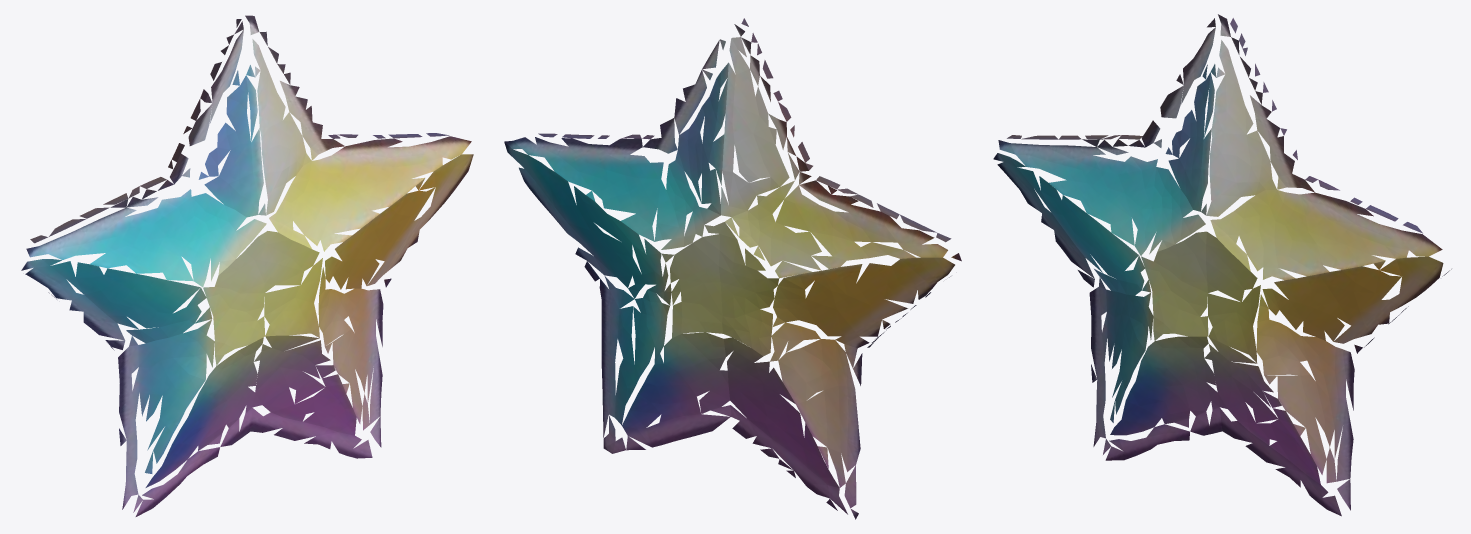
The model's file is starry.glb.
The picture shows the model from 3 angles, left to right: view 1: azimuth 30°, elevation 25°; view 2: azimuth 150°, elevation 25°; view 3: azimuth 330°, elevation 25°; orthographic projection.
Visible parts, largest first — view 1: world.001; view 2: world.001; view 3: world.001.
Part boxes in pixels (<box>): world.001: <box>21,15,473,516</box>; world.001: <box>504,18,961,519</box>; world.001: <box>993,14,1451,516</box>.
Size of the model in its own units: 0.9934 by 0.9851 by 0.1308.
Materials: 1 (1 with a texture image).
